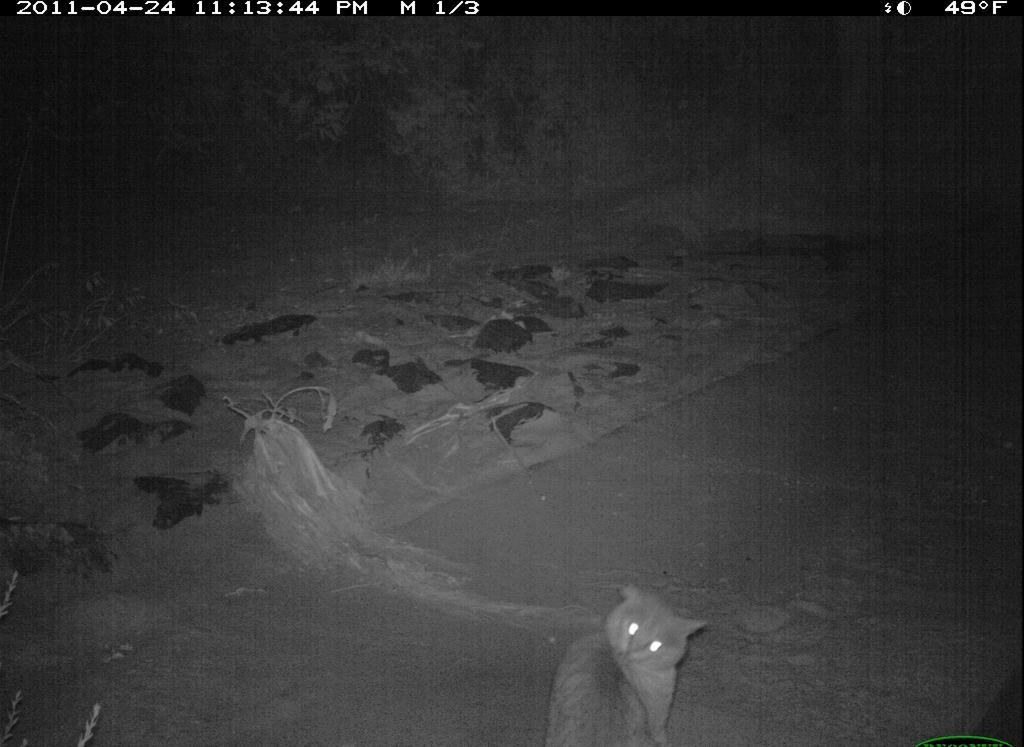cat: (537, 575, 707, 747)
